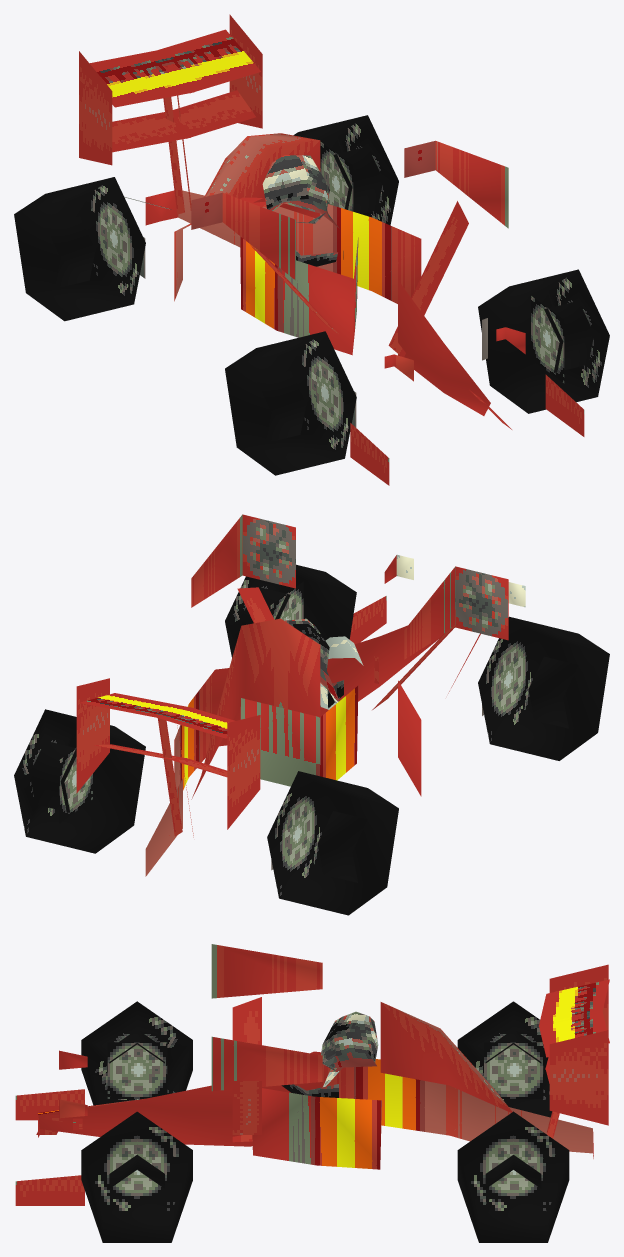
Rendered from ps2_save-icons_segaages2500seriesvol2-monacogp.glb.
3 renders of one model, top to bottom at view 1: azimuth 30°, elevation 25°; view 2: azimuth 150°, elevation 25°; view 3: azimuth 270°, elevation 25°, orthographic. The views are drawn at different scales.
Parts seen in each view (by area): view 1: micon1.ico; view 2: micon1.ico; view 3: micon1.ico.
Part boxes in pixels (<box>): micon1.ico: <box>14,14,609,485</box>; micon1.ico: <box>14,514,609,915</box>; micon1.ico: <box>15,944,609,1242</box>.
Size of the model in its own units: 2.46 by 1.43 by 4.41.
1 material, 1 textured.
